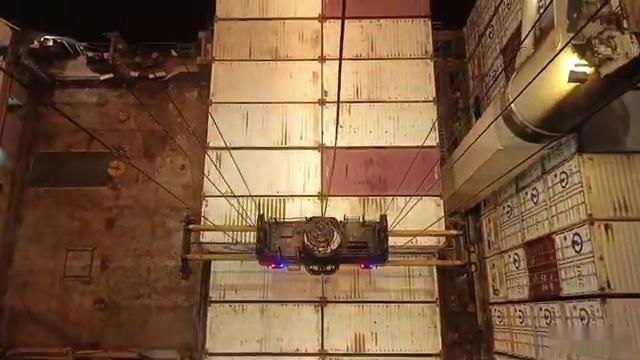container: (201, 196, 444, 256), (204, 303, 443, 353), (202, 149, 441, 196), (208, 103, 436, 150), (207, 258, 442, 302), (209, 59, 435, 101), (201, 354, 444, 360)
guide_mark: (65, 346, 559, 360), (112, 357, 545, 360)
spreader: (177, 206, 475, 280)
target_slot: (195, 196, 451, 256)
